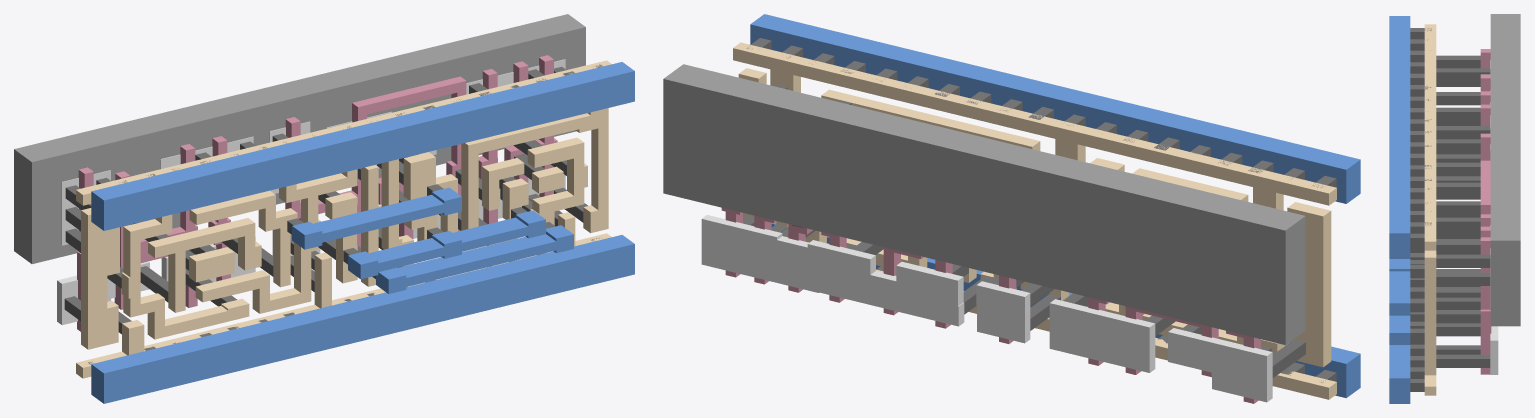
The model's file is sky130_fd_sc_hd__xor3_1.gds.gltf.
3 renders of one model, left to right at view 1: azimuth 30°, elevation 25°; view 2: azimuth 150°, elevation 25°; view 3: azimuth 270°, elevation 25°, orthographic. The views are drawn at different scales.
Visible parts, largest first — view 1: sky130_fd_sc_hd__xor3_1_met1, sky130_fd_sc_hd__xor3_1_li1, sky130_fd_sc_hd__xor3_1_nwell, sky130_fd_sc_hd__xor3_1_poly, sky130_fd_sc_hd__xor3_1_licon, sky130_fd_sc_hd__xor3_1_diff, sky130_fd_sc_hd__xor3_1_mcon; view 2: sky130_fd_sc_hd__xor3_1_nwell, sky130_fd_sc_hd__xor3_1_diff, sky130_fd_sc_hd__xor3_1_li1, sky130_fd_sc_hd__xor3_1_met1, sky130_fd_sc_hd__xor3_1_mcon, sky130_fd_sc_hd__xor3_1_poly, sky130_fd_sc_hd__xor3_1_licon; view 3: sky130_fd_sc_hd__xor3_1_licon, sky130_fd_sc_hd__xor3_1_nwell, sky130_fd_sc_hd__xor3_1_met1, sky130_fd_sc_hd__xor3_1_mcon, sky130_fd_sc_hd__xor3_1_li1, sky130_fd_sc_hd__xor3_1_poly, sky130_fd_sc_hd__xor3_1_diff.
Boxes of the visible parts, left/top/right/bottom form: sky130_fd_sc_hd__xor3_1_met1: left=91, top=62, right=634, bottom=403; sky130_fd_sc_hd__xor3_1_li1: left=76, top=60, right=611, bottom=378; sky130_fd_sc_hd__xor3_1_nwell: left=14, top=14, right=585, bottom=263; sky130_fd_sc_hd__xor3_1_poly: left=77, top=55, right=557, bottom=331; sky130_fd_sc_hd__xor3_1_licon: left=64, top=66, right=587, bottom=334; sky130_fd_sc_hd__xor3_1_diff: left=57, top=59, right=565, bottom=325; sky130_fd_sc_hd__xor3_1_mcon: left=88, top=64, right=602, bottom=364; sky130_fd_sc_hd__xor3_1_nwell: left=663, top=64, right=1305, bottom=344; sky130_fd_sc_hd__xor3_1_diff: left=701, top=215, right=1272, bottom=402; sky130_fd_sc_hd__xor3_1_li1: left=733, top=42, right=1336, bottom=399; sky130_fd_sc_hd__xor3_1_met1: left=750, top=14, right=1360, bottom=398; sky130_fd_sc_hd__xor3_1_mcon: left=746, top=38, right=1336, bottom=382; sky130_fd_sc_hd__xor3_1_poly: left=721, top=208, right=1260, bottom=403; sky130_fd_sc_hd__xor3_1_licon: left=743, top=84, right=1305, bottom=377; sky130_fd_sc_hd__xor3_1_licon: left=1436, top=55, right=1490, bottom=367; sky130_fd_sc_hd__xor3_1_nwell: left=1490, top=14, right=1520, bottom=326; sky130_fd_sc_hd__xor3_1_met1: left=1389, top=16, right=1410, bottom=403; sky130_fd_sc_hd__xor3_1_mcon: left=1410, top=28, right=1431, bottom=391; sky130_fd_sc_hd__xor3_1_li1: left=1424, top=24, right=1436, bottom=395; sky130_fd_sc_hd__xor3_1_poly: left=1480, top=49, right=1491, bottom=374; sky130_fd_sc_hd__xor3_1_diff: left=1490, top=60, right=1498, bottom=374.
Size of the model in its own units: 9.12 by 3.2 by 2.24.
